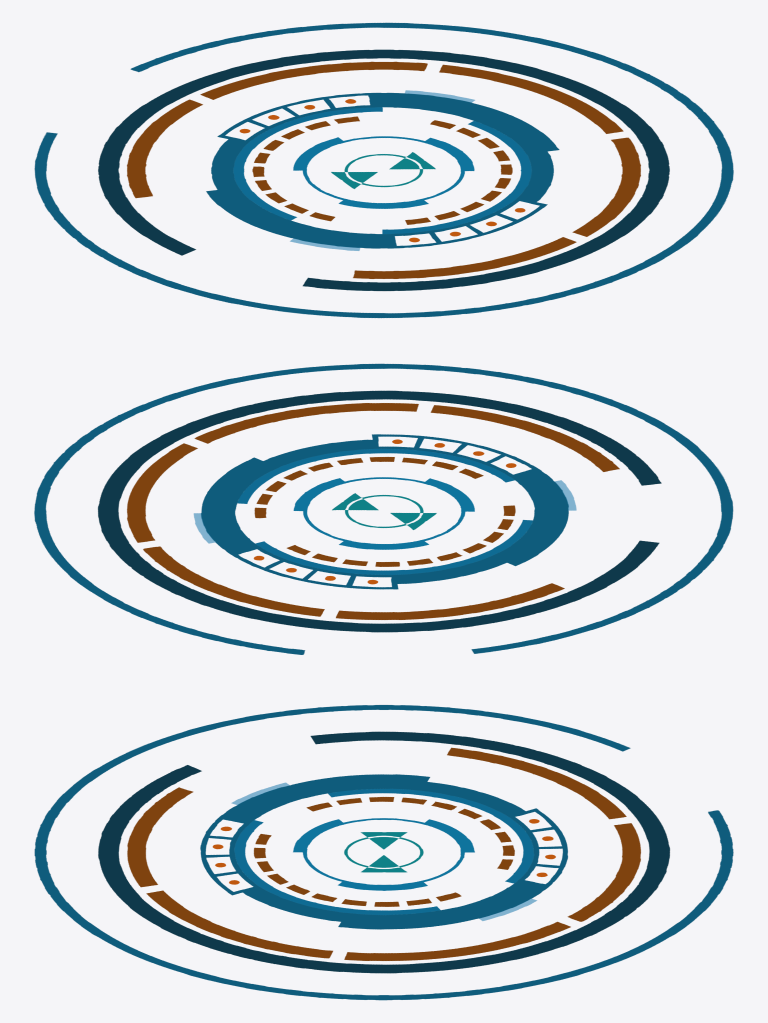
The model's file is sci_fi_trigger_EditMode.glb.
3 renders of one model, top to bottom at view 1: azimuth 30°, elevation 25°; view 2: azimuth 150°, elevation 25°; view 3: azimuth 270°, elevation 25°, orthographic.
Parts seen in each view (by area): view 1: SciFi_Trigger; view 2: SciFi_Trigger; view 3: SciFi_Trigger.
Boxes of the visible parts, x1=… form: SciFi_Trigger: x1=34, y1=22, x2=733, y2=318; SciFi_Trigger: x1=34, y1=363, x2=733, y2=654; SciFi_Trigger: x1=34, y1=705, x2=733, y2=1000.
Size of what is drawn, in the model's own units: 4 by 8.88e-16 by 4.
1 material, 1 textured.
